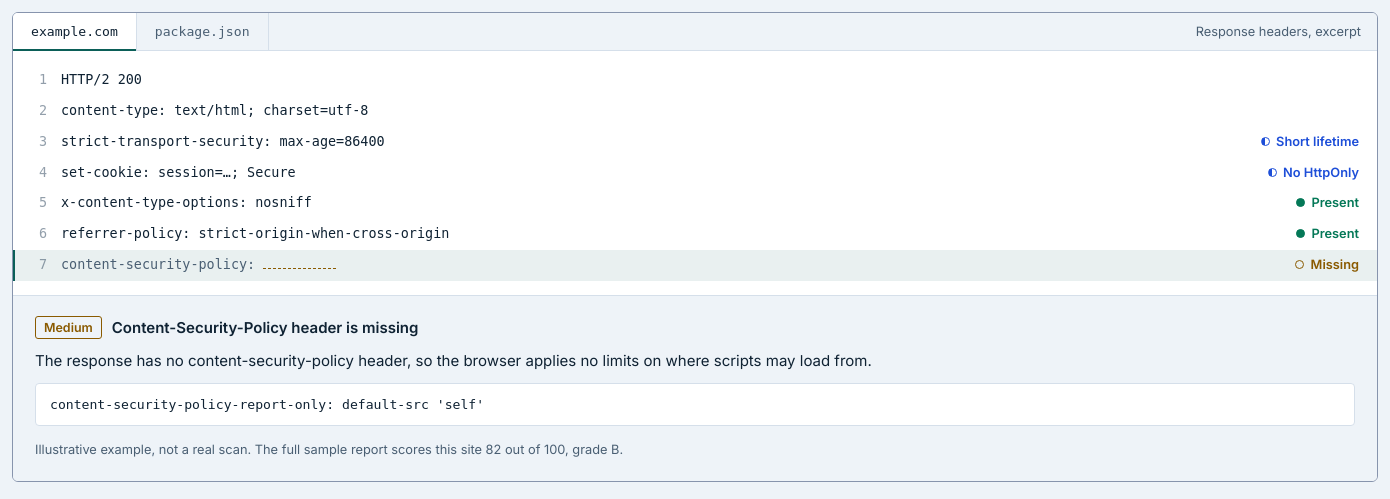
Test case: home hero › shows another finding when a marked line is chosen
This screenshot has width=1390, height=499.
Click the button "3 strict-transport-security: max-age=86400 Short lifetime" at (223, 141), box [13, 127, 1377, 158]
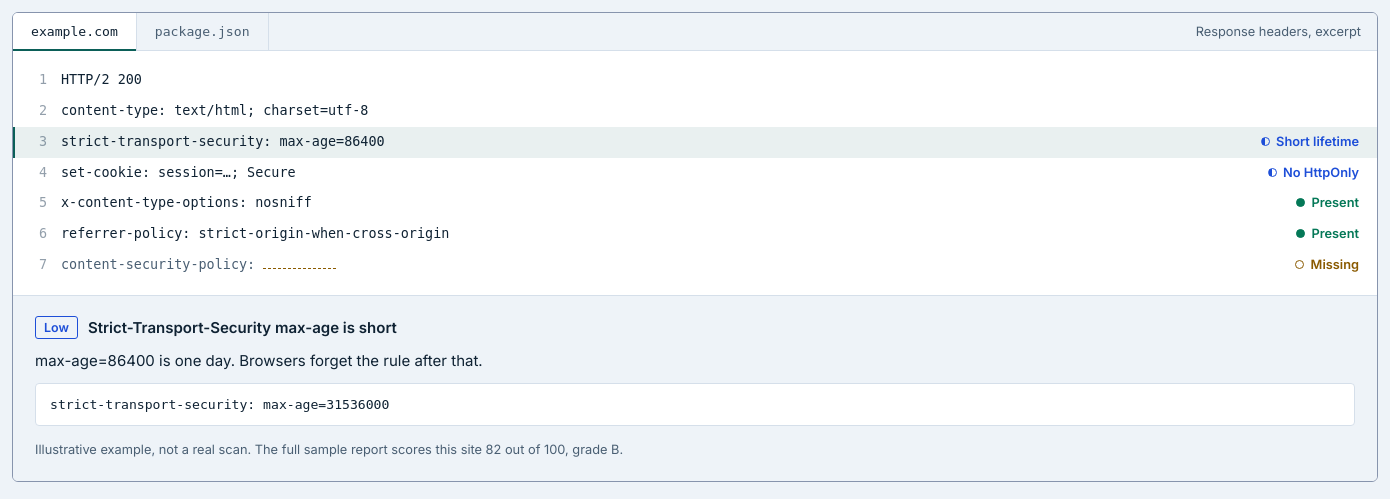
Now the text "Strict-Transport-Security max-age is short" is shown, box [88, 318, 397, 337]
